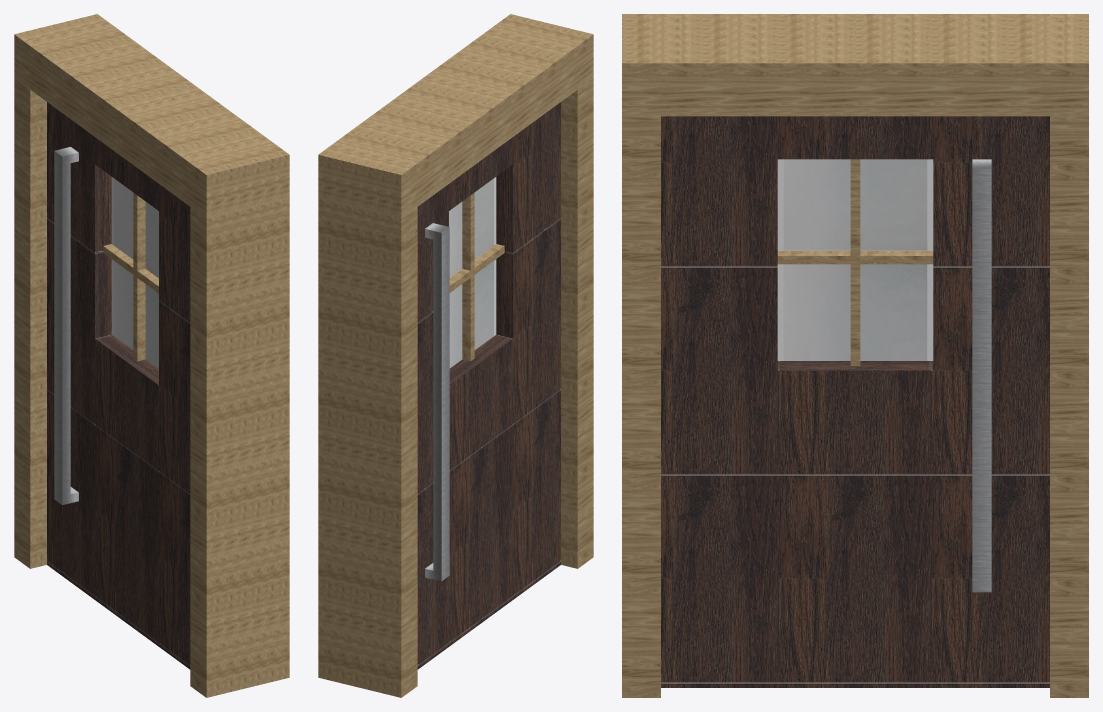
File: FrontDoor001.FBX
3 renders of one model, left to right at view 1: azimuth 30°, elevation 25°; view 2: azimuth 150°, elevation 25°; view 3: azimuth 270°, elevation 25°, orthographic. The views are drawn at different scales.
Visible parts, largest first — view 1: FrontDoor002; view 2: FrontDoor002; view 3: FrontDoor002.
Boxes of the visible parts, x1=… form: FrontDoor002: x1=14, y1=14, x2=289, y2=697; FrontDoor002: x1=318, y1=14, x2=593, y2=697; FrontDoor002: x1=622, y1=14, x2=1088, y2=697.
Size of the model in its own units: 50 by 300 by 200.
